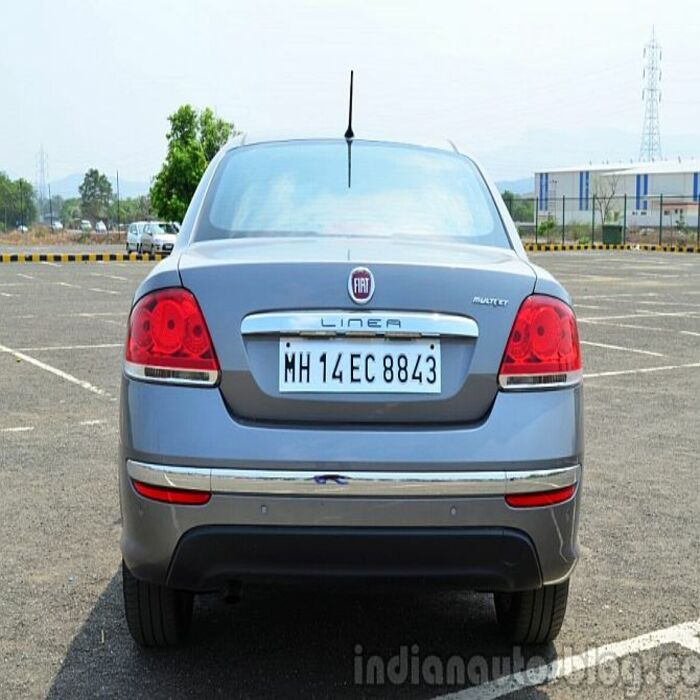n: (280, 339, 440, 390)
